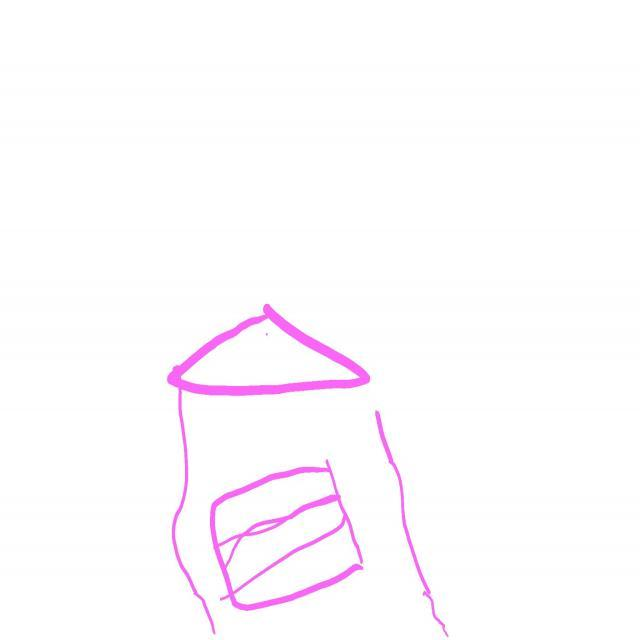house: (155, 301, 458, 640)
roof: (162, 298, 374, 395)
wall: (173, 385, 445, 640)
window: (209, 459, 376, 619)
